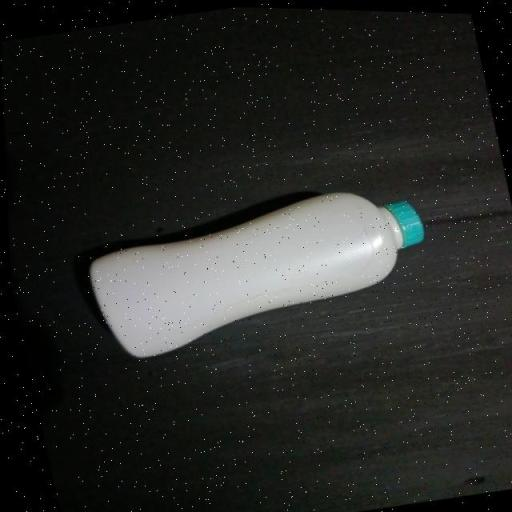plastic: (44, 146, 496, 405)
